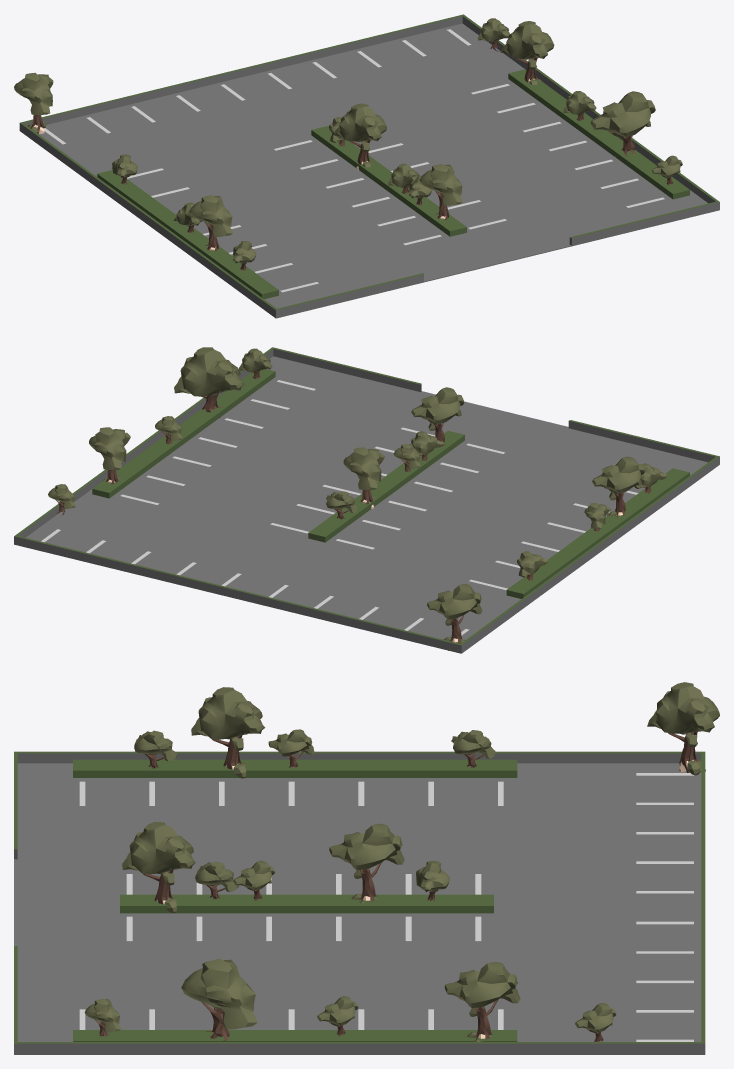
Rendered from road_parking.gltf.
The picture shows the model from 3 angles, top to bottom: view 1: azimuth 30°, elevation 25°; view 2: azimuth 150°, elevation 25°; view 3: azimuth 270°, elevation 25°; orthographic projection. The views are drawn at different scales.
Visible parts, largest first — view 1: parking; view 2: parking; view 3: parking.
Part boxes in pixels (box(x1,y1,x2,y2)): parking: box(14, 14, 719, 318); parking: box(14, 347, 719, 653); parking: box(14, 682, 719, 1054).
Size of the model in its own units: 12.58 by 1.67 by 12.26.
